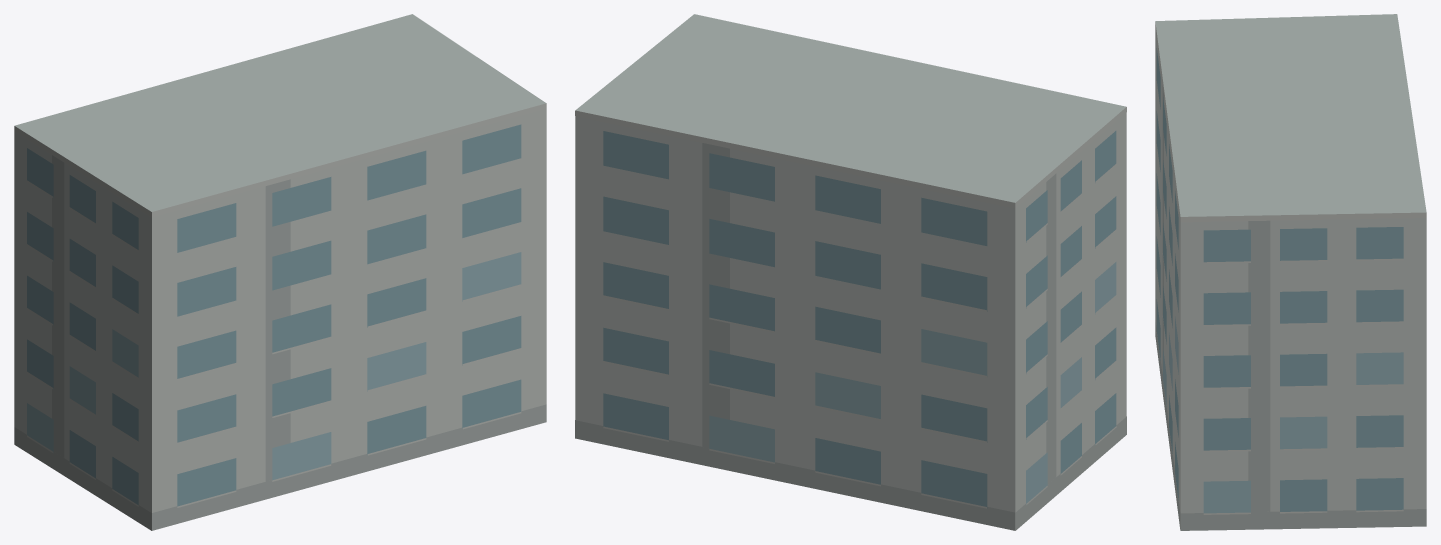
File: survey-upis-32823482.glb
The picture shows the model from 3 angles, left to right: view 1: azimuth 30°, elevation 25°; view 2: azimuth 150°, elevation 25°; view 3: azimuth 270°, elevation 25°; orthographic projection. The views are drawn at different scales.
Visible parts, largest first — view 1: survey-upis-32823482.tmp; view 2: survey-upis-32823482.tmp; view 3: survey-upis-32823482.tmp.
Part boxes in pixels (x1,y1,x2,y2): survey-upis-32823482.tmp: (14, 14, 546, 530); survey-upis-32823482.tmp: (575, 14, 1126, 530); survey-upis-32823482.tmp: (1155, 14, 1426, 530).
Bounding box in the file's own units: 19.55 × 14.1 × 11.05.
